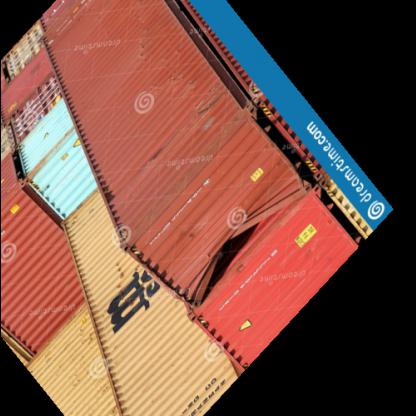Damage: (182, 213, 265, 301)
